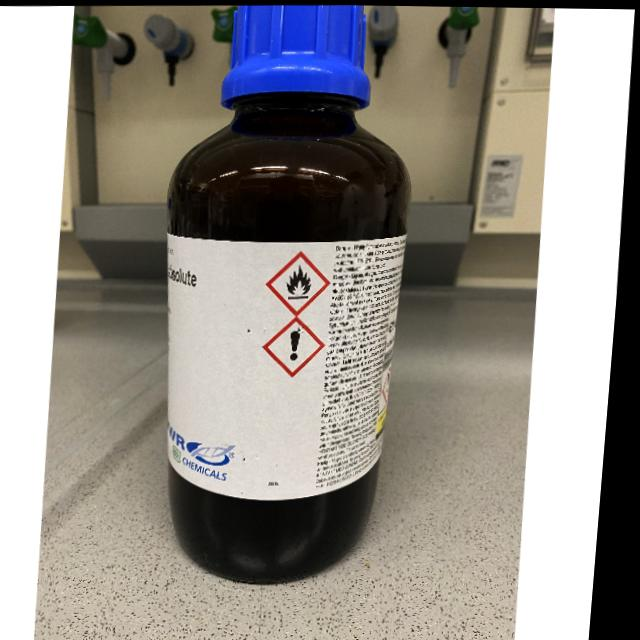flammable: (290, 264, 317, 298)
health-ozone layer hazard: (294, 330, 306, 359)
